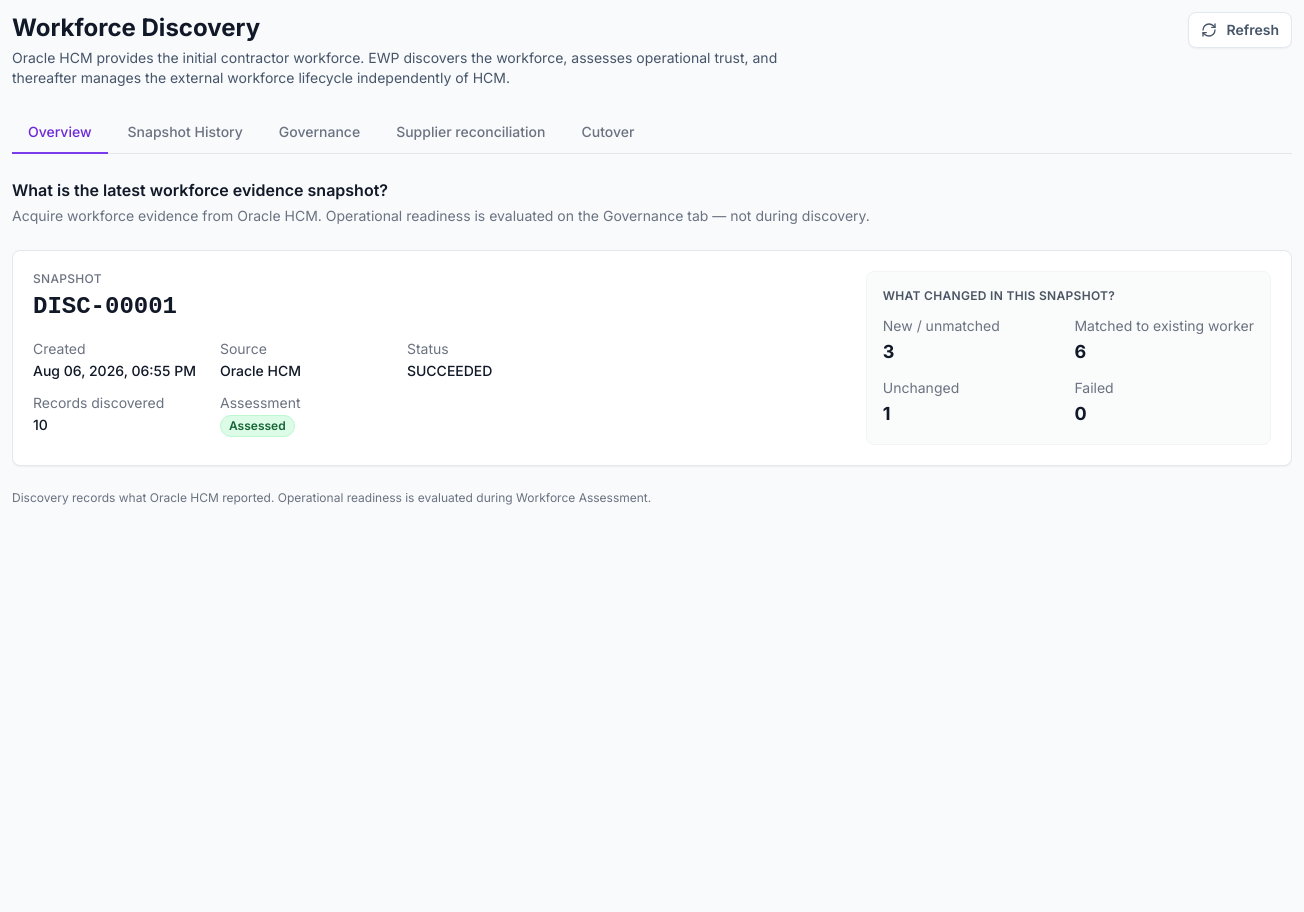
Test: HcmConnectorOperationsPanel — migration lineage toggle (render) › bootstrap rows are NOT visible in default operational view
Expected: the navigation bar with test id "workforce-import-tabs" is shown, [12, 112, 1292, 154]
Step 1. Click the tab "Governance" → {"x": 320, "y": 133}, box [263, 112, 376, 154]
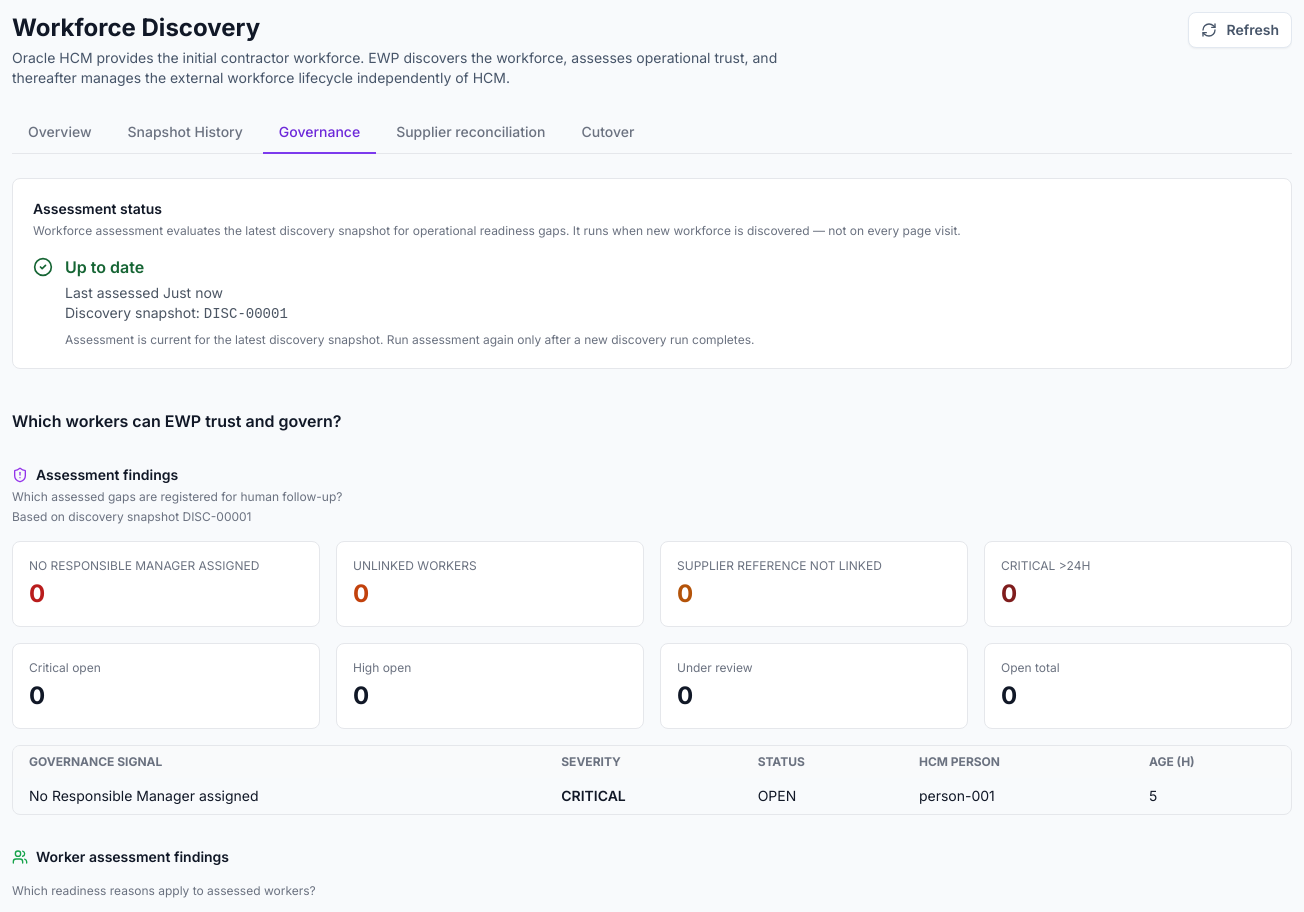
Result: the row with test id "drift-row-operational" is shown at [13, 778, 1291, 814]
